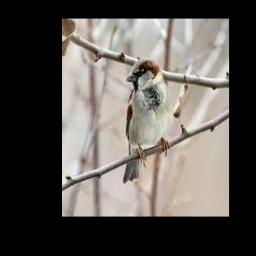Sparrow: (123, 58, 170, 183)
